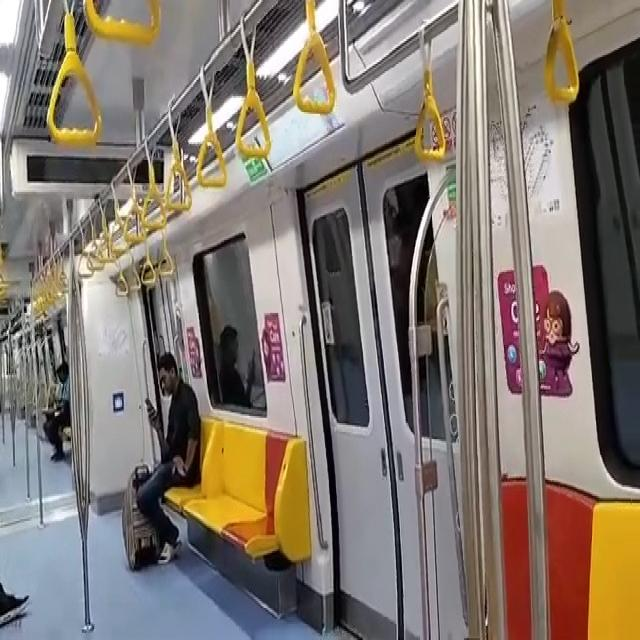bus-door: (304, 140, 429, 638), (419, 222, 444, 441)
